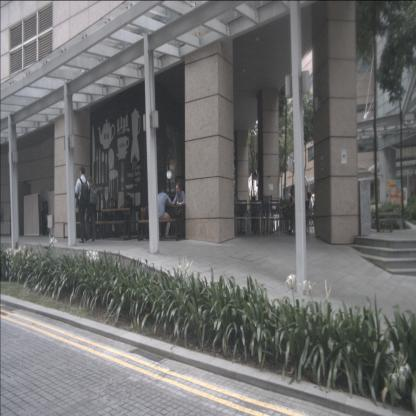human-pedestrian-adult: (75, 166, 90, 244), (156, 186, 173, 241), (171, 182, 186, 239), (86, 176, 98, 242), (305, 192, 316, 234), (288, 185, 296, 232)
